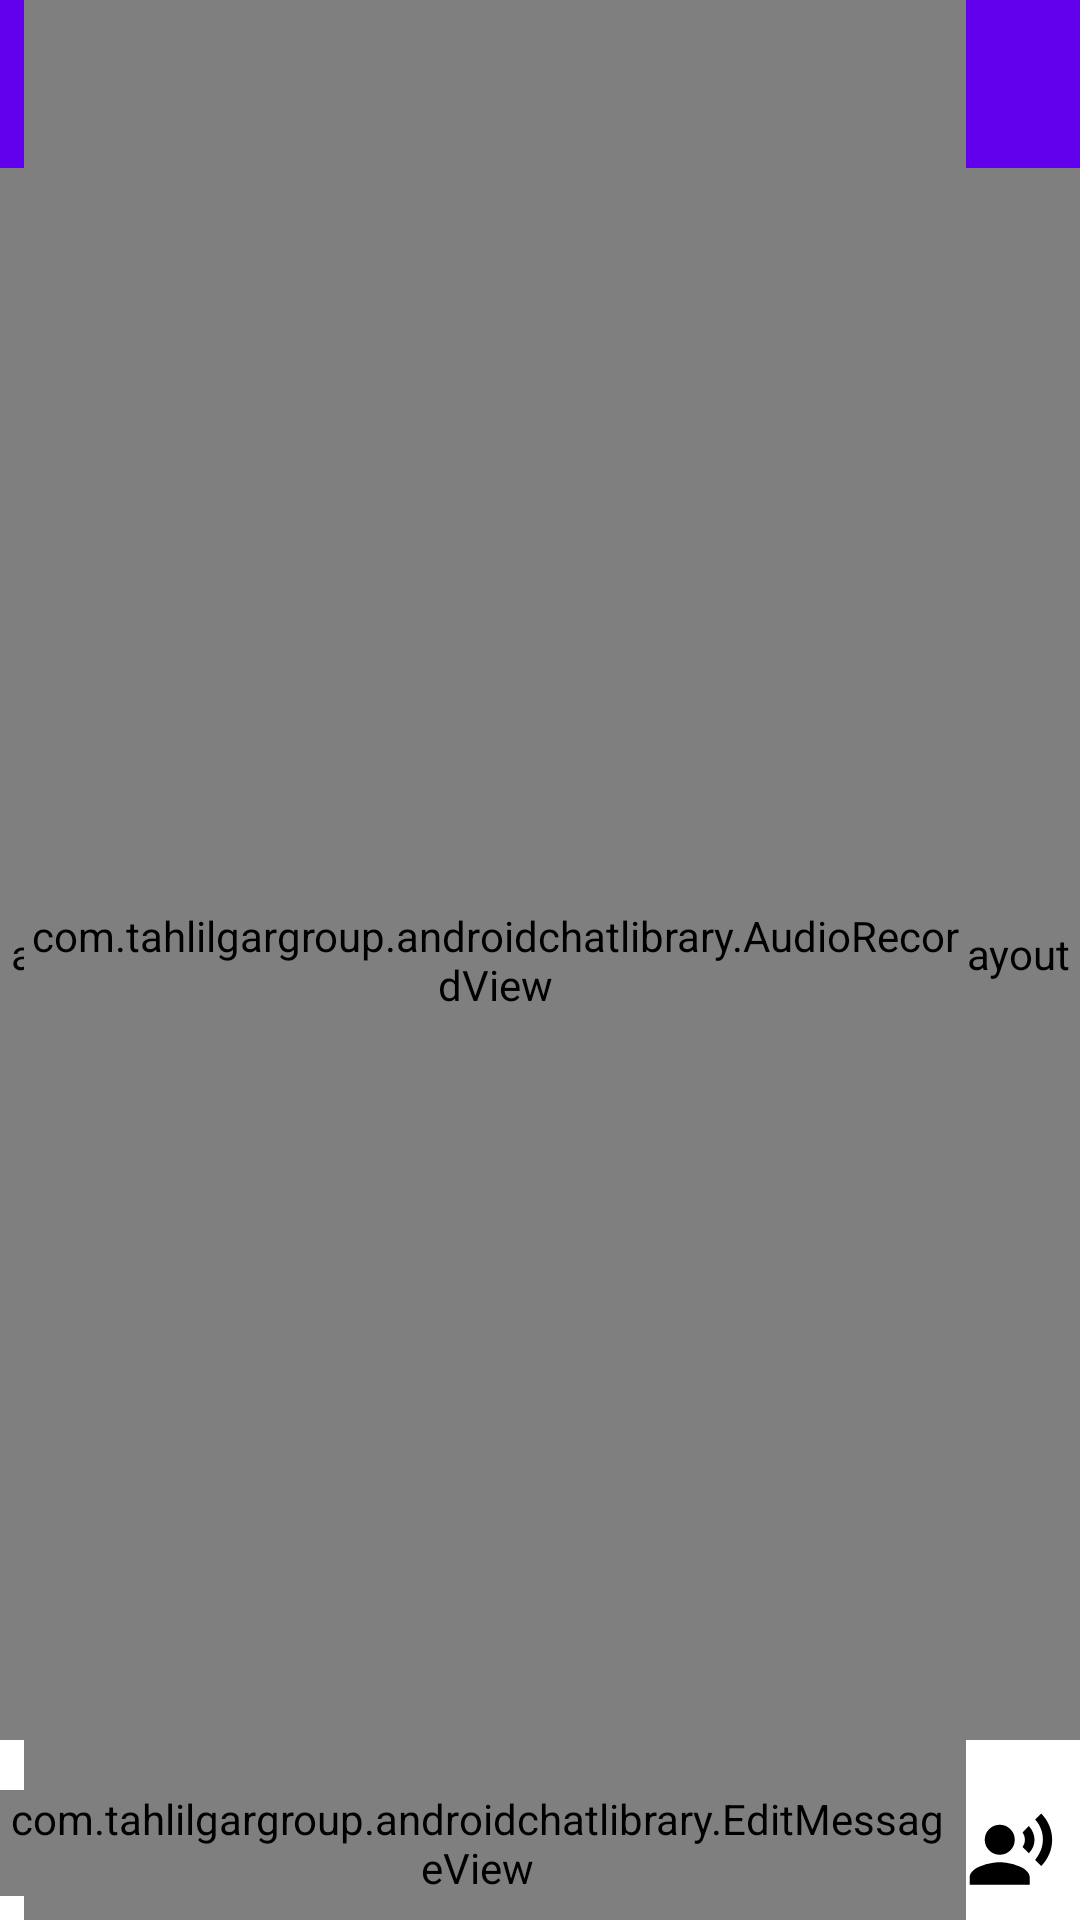

Icon bounding boxes for this 1080x1920 phone screenshot, format (x1, y1, x2, y2):
speak: (969, 1813, 1053, 1885)
